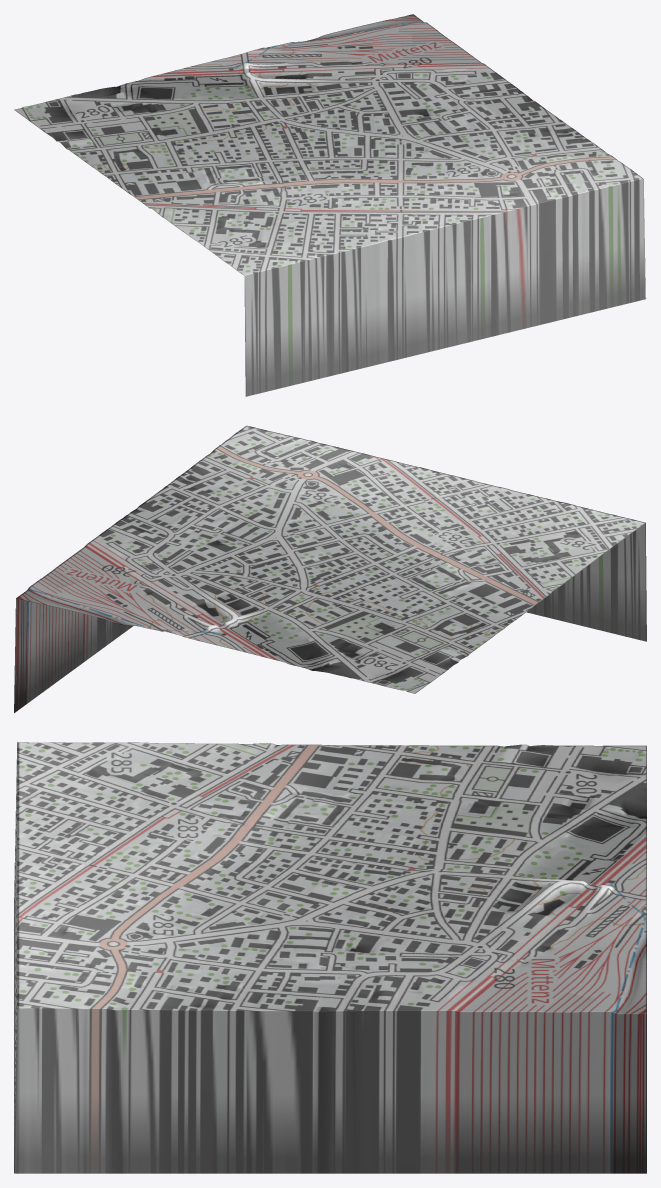
3 views of the same model, one above another, from view 1: azimuth 30°, elevation 25°; view 2: azimuth 150°, elevation 25°; view 3: azimuth 270°, elevation 25° (orthographic). The views are drawn at different scales.
Parts seen in each view (by area): view 1: Muttenz_DEM; view 2: Muttenz_DEM; view 3: Muttenz_DEM.
Boxes of the visible parts, x1,y1,x2,y2 form: Muttenz_DEM: [14, 14, 646, 396]; Muttenz_DEM: [14, 425, 646, 712]; Muttenz_DEM: [14, 742, 646, 1173].
Size of the model in its own units: 1000 by 288 by 1000.
Materials: 1 (1 with a texture image).
